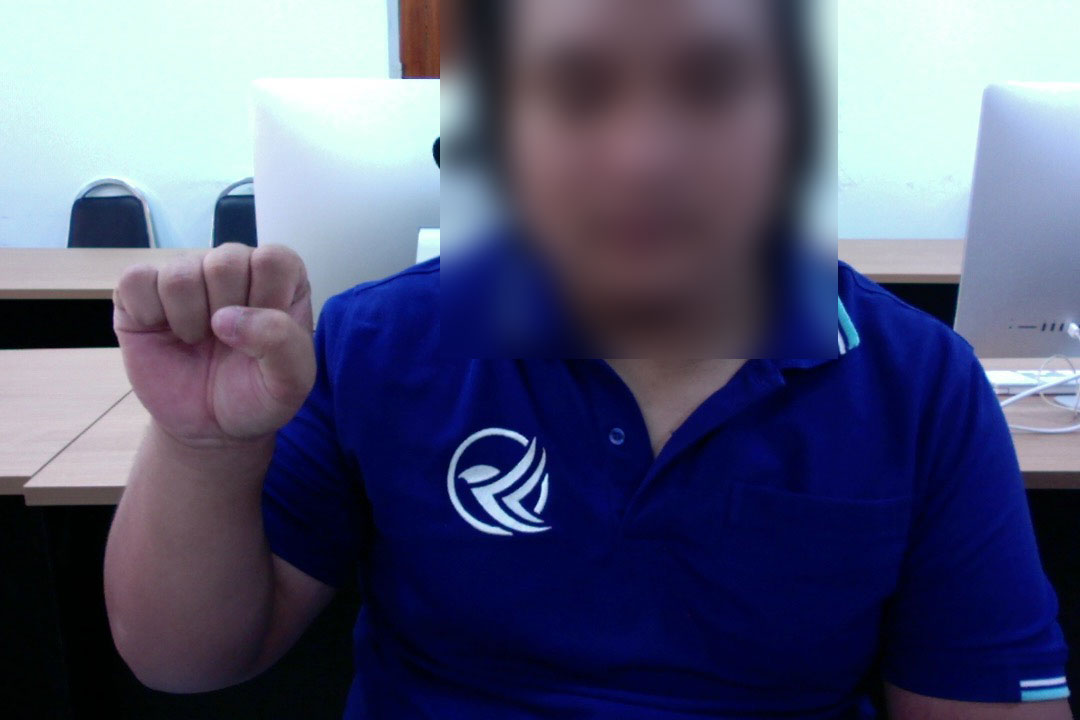sor: (103, 235, 326, 454)
